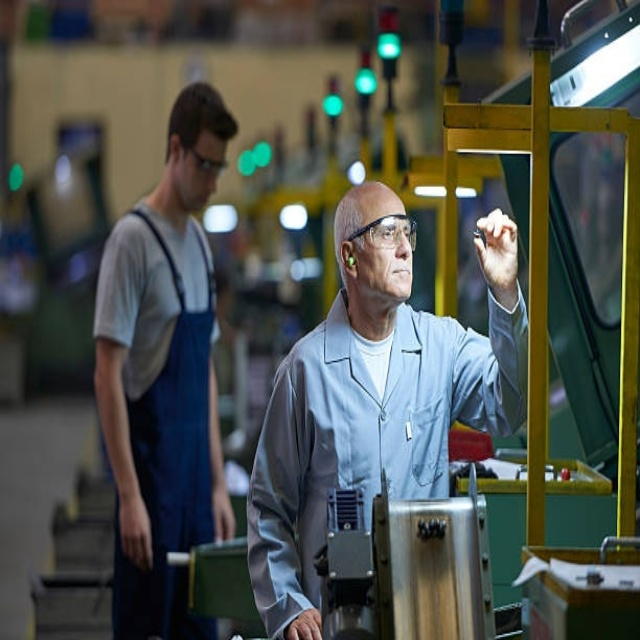Gafas: (347, 215, 417, 253), (184, 142, 229, 175)
Sin_guantes: (470, 204, 521, 293), (284, 608, 323, 640)
Sin_mascara: (380, 260, 416, 295)
